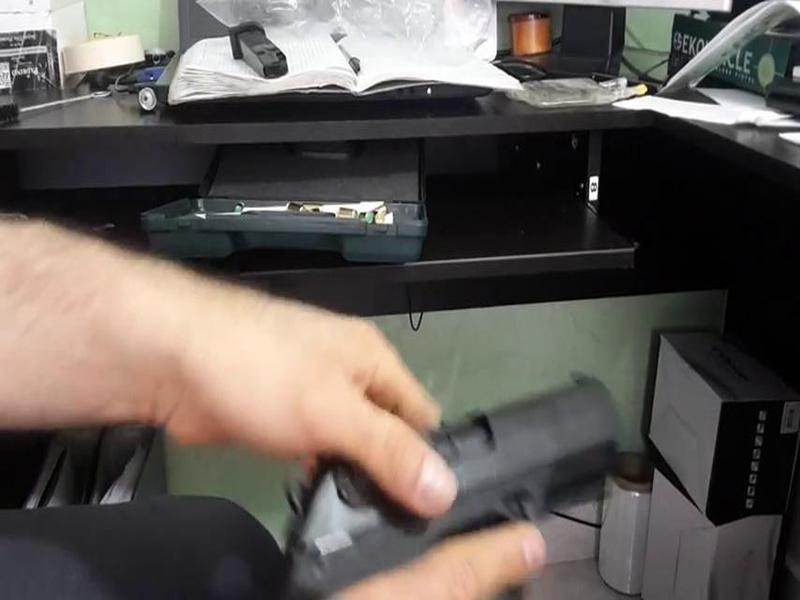Pistola: (252, 369, 628, 600)
